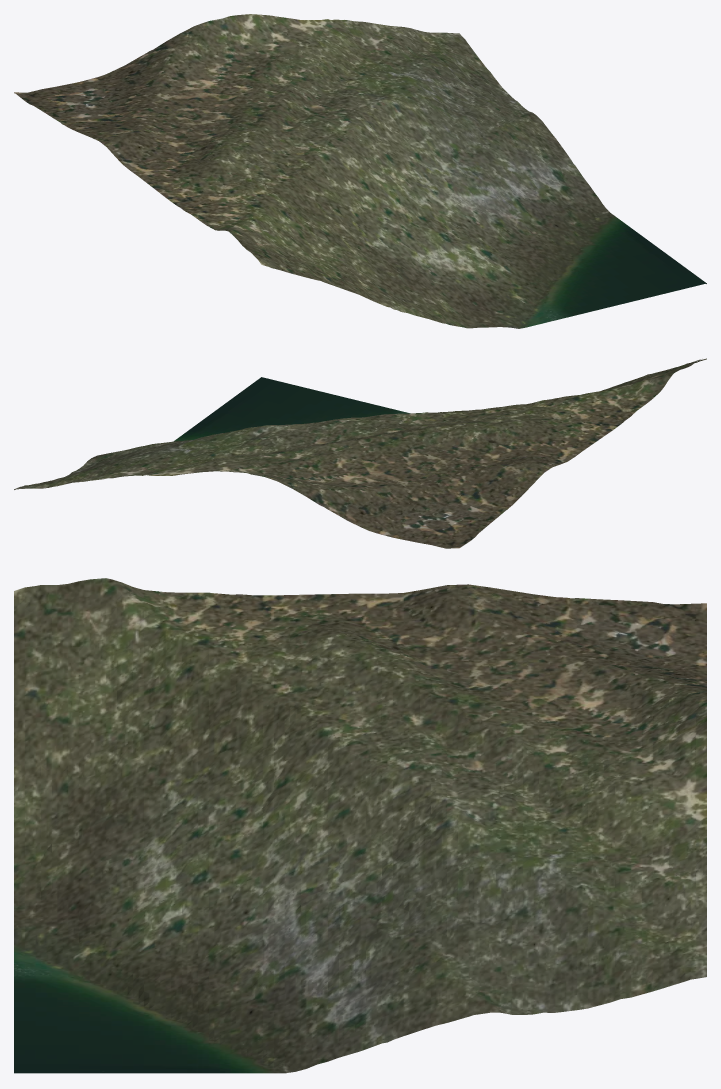
3 renders of one model, top to bottom at view 1: azimuth 30°, elevation 25°; view 2: azimuth 150°, elevation 25°; view 3: azimuth 270°, elevation 25°, orthographic. The views are drawn at different scales.
Bounding box in the file's own units: 500 × 154 × 481.
1 material, 1 textured.
